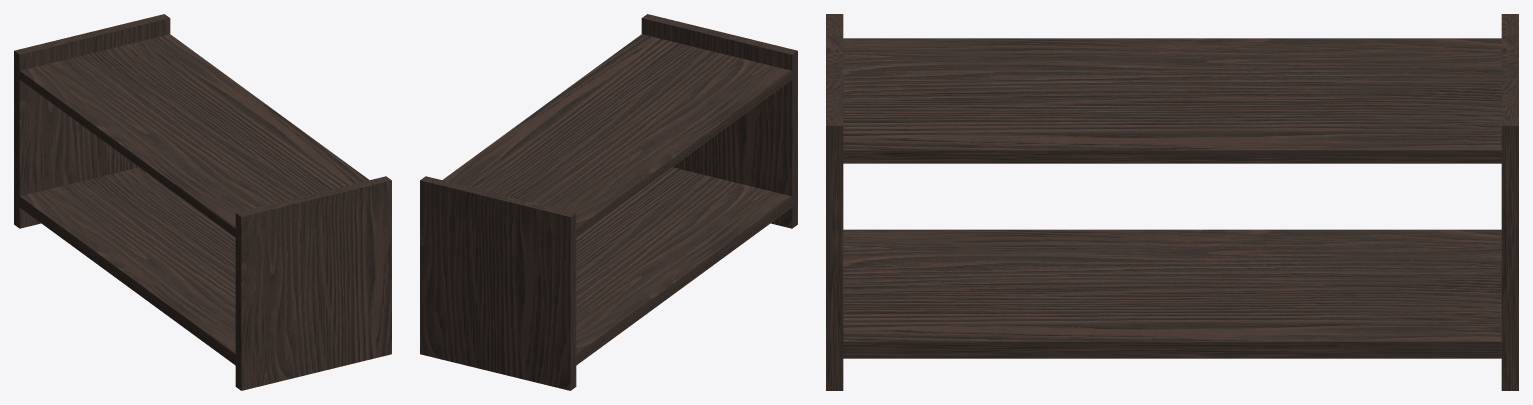
File: wood_stand_medium.glb
3 renders of one model, left to right at view 1: azimuth 30°, elevation 25°; view 2: azimuth 150°, elevation 25°; view 3: azimuth 270°, elevation 25°, orthographic. The views are drawn at different scales.
Parts seen in each view (by area): view 1: Cube.079; view 2: Cube.079; view 3: Cube.079.
Part boxes in pixels (x1=…): Cube.079: x1=14, y1=14, x2=391, y2=390; Cube.079: x1=420, y1=14, x2=797, y2=390; Cube.079: x1=826, y1=14, x2=1518, y2=390.
Bounding box in the file's own units: 0.5904 × 0.6522 × 1.55.
Materials: 1 (1 with a texture image).
